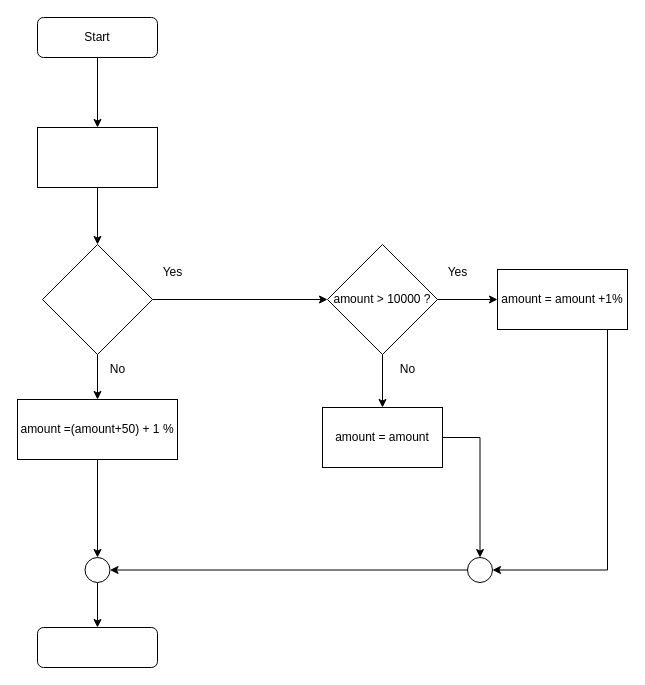
Image size: 645x685. Some labels were removed from this diagram. The shapes that lost their labels are listed below. From the top down, each one's centre as x and y in pixels, then its label:
At [97,157]: "amount = input account a = input account b = input".
At [97,299]: "account a == account b ?".
At [97,647]: "End".
